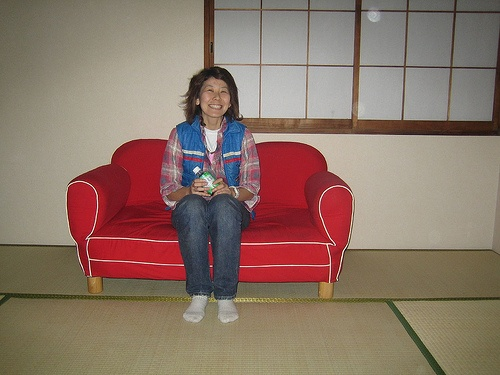head: (184, 68, 241, 120)
person: (156, 61, 262, 323)
